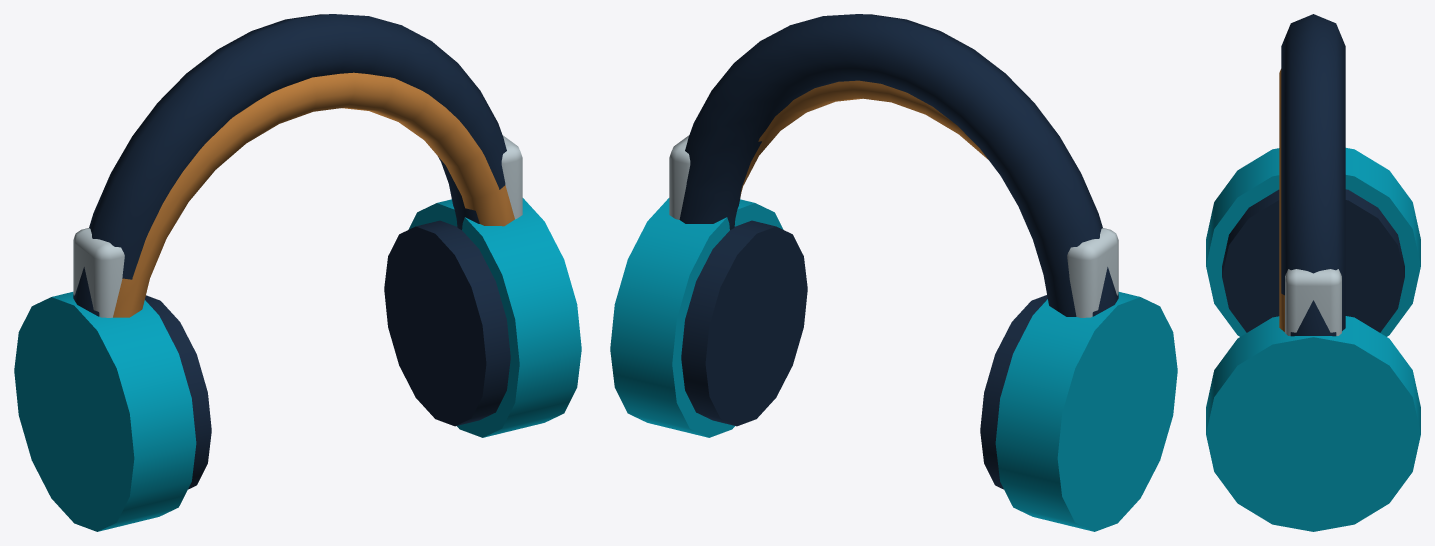
The model's file is 13_Headphones.glb.
The picture shows the model from 3 angles, left to right: view 1: azimuth 30°, elevation 25°; view 2: azimuth 150°, elevation 25°; view 3: azimuth 270°, elevation 25°; orthographic projection. The views are drawn at different scales.
Parts seen in each view (by area): view 1: 13_Headphones_EXPORT; view 2: 13_Headphones_EXPORT; view 3: 13_Headphones_EXPORT.
Part boxes in pixels (box(x1,y1,x2,y2)): 13_Headphones_EXPORT: box(14, 14, 581, 531); 13_Headphones_EXPORT: box(610, 14, 1177, 531); 13_Headphones_EXPORT: box(1206, 14, 1420, 531).
Size of the model in its own units: 0.404 by 0.388 by 0.188.
